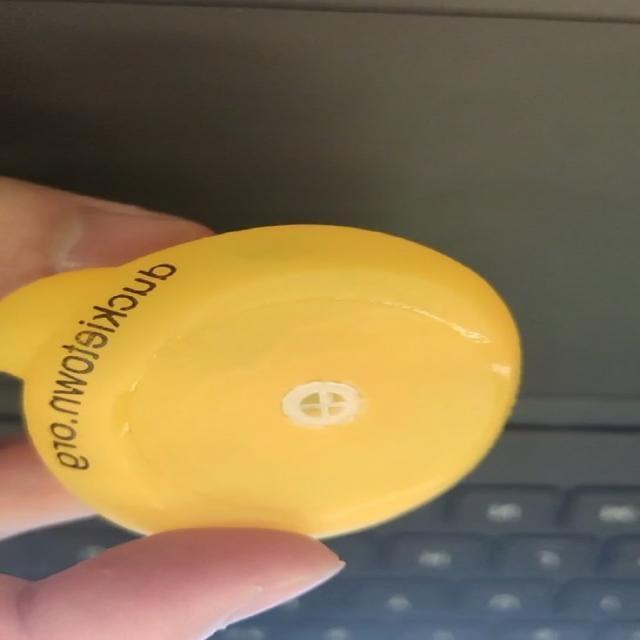rubber-duck: (0, 224, 519, 535)
